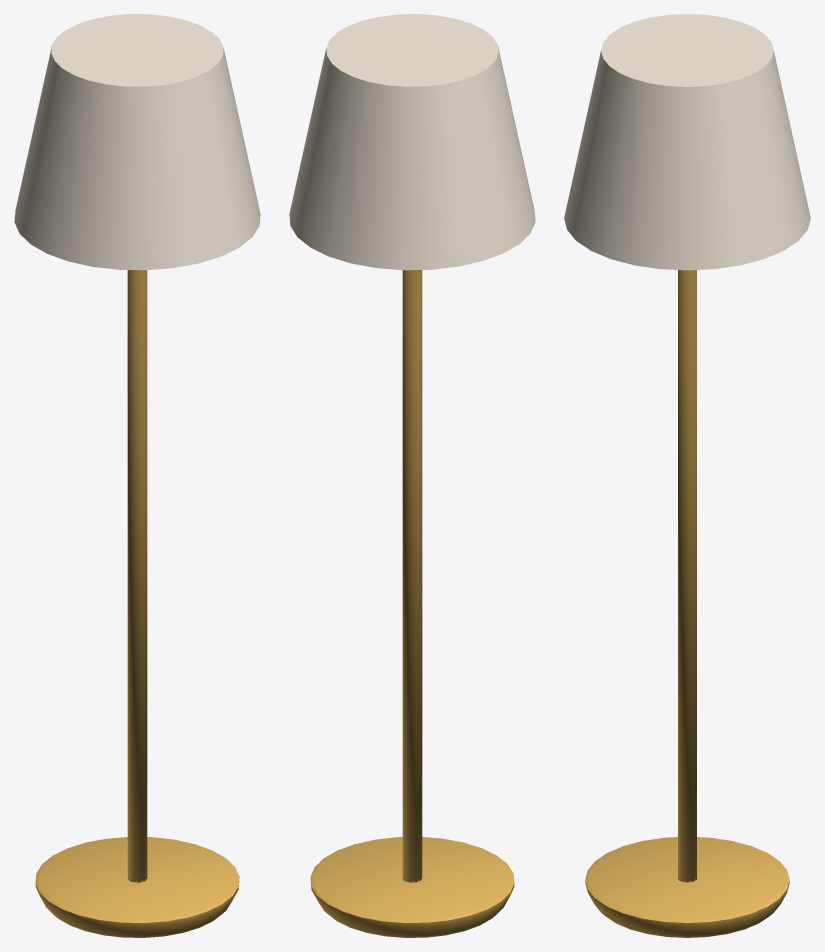
The model's file is floor-lamp-drum.glb.
3 renders of one model, left to right at view 1: azimuth 30°, elevation 25°; view 2: azimuth 150°, elevation 25°; view 3: azimuth 270°, elevation 25°, orthographic.
Visible parts, largest first — view 1: floor-lamp-drum; view 2: floor-lamp-drum; view 3: floor-lamp-drum.
Boxes of the visible parts, x1,y1,x2,y2 form: floor-lamp-drum: (14, 14, 260, 937); floor-lamp-drum: (289, 14, 535, 937); floor-lamp-drum: (564, 14, 810, 937).
Size of the model in its own units: 0.4 by 1.52 by 0.4.
